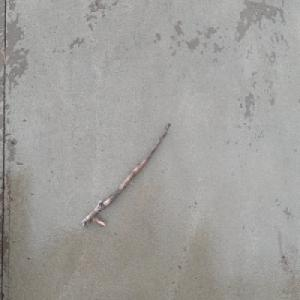Wood: (80, 120, 171, 229)
